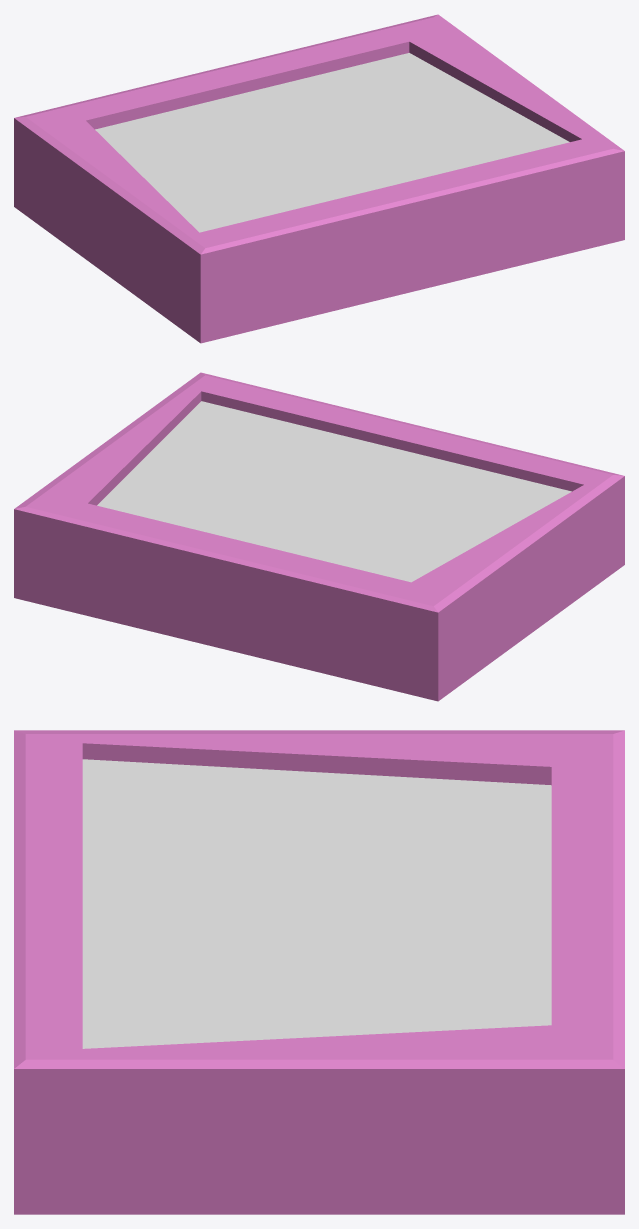
Rendered from JewelDesc.fbx.
3 views of the same model, one above another, from view 1: azimuth 30°, elevation 25°; view 2: azimuth 150°, elevation 25°; view 3: azimuth 270°, elevation 25° (orthographic). The views are drawn at different scales.
Visible parts, largest first — view 1: JewleDescription; view 2: JewleDescription; view 3: JewleDescription.
Part boxes in pixels (x1=…): JewleDescription: x1=14, y1=14, x2=624, y2=343; JewleDescription: x1=14, y1=372, x2=624, y2=701; JewleDescription: x1=14, y1=730, x2=624, y2=1214.
Size of the model in its own units: 39.73 by 8.27 by 30.29.
